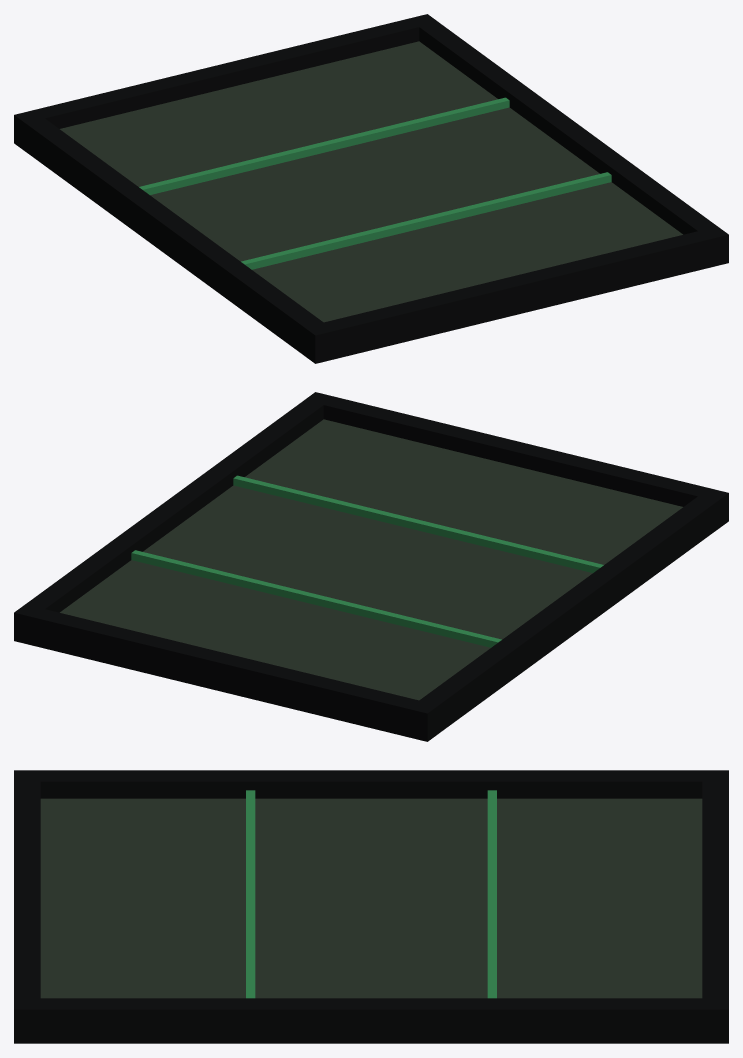
The model's file is Radar.fbx.
3 renders of one model, top to bottom at view 1: azimuth 30°, elevation 25°; view 2: azimuth 150°, elevation 25°; view 3: azimuth 270°, elevation 25°, orthographic. The views are drawn at different scales.
Parts seen in each view (by area): view 1: Cube.041, Cube.053, Cube.050, Cube.049, Cube.042, Cube.051, Cube.052; view 2: Cube.041, Cube.049, Cube.050, Cube.053, Cube.042, Cube.052, Cube.051; view 3: Cube.041, Cube.042, Cube.050, Cube.049, Cube.053, Cube.051, Cube.052.
Boxes of the visible parts, x1,y1,x2,y2 form: Cube.041: (60, 41, 682, 322); Cube.053: (304, 229, 728, 363); Cube.050: (25, 118, 326, 355); Cube.049: (14, 14, 438, 151); Cube.042: (419, 22, 720, 234); Cube.051: (241, 172, 611, 269); Cube.052: (139, 97, 509, 194); Cube.041: (60, 419, 682, 700); Cube.049: (14, 604, 438, 741); Cube.050: (419, 494, 720, 733); Cube.053: (308, 392, 728, 529); Cube.042: (25, 398, 326, 612); Cube.052: (131, 550, 501, 647); Cube.051: (233, 475, 603, 572); Cube.041: (40, 798, 702, 998); Cube.042: (32, 998, 702, 1043); Cube.050: (32, 770, 702, 798); Cube.049: (702, 770, 728, 1043); Cube.053: (14, 770, 40, 1043); Cube.051: (246, 790, 255, 998); Cube.052: (487, 790, 496, 998).
Bounding box in the file's own units: 60.9 × 4 × 76.88.
